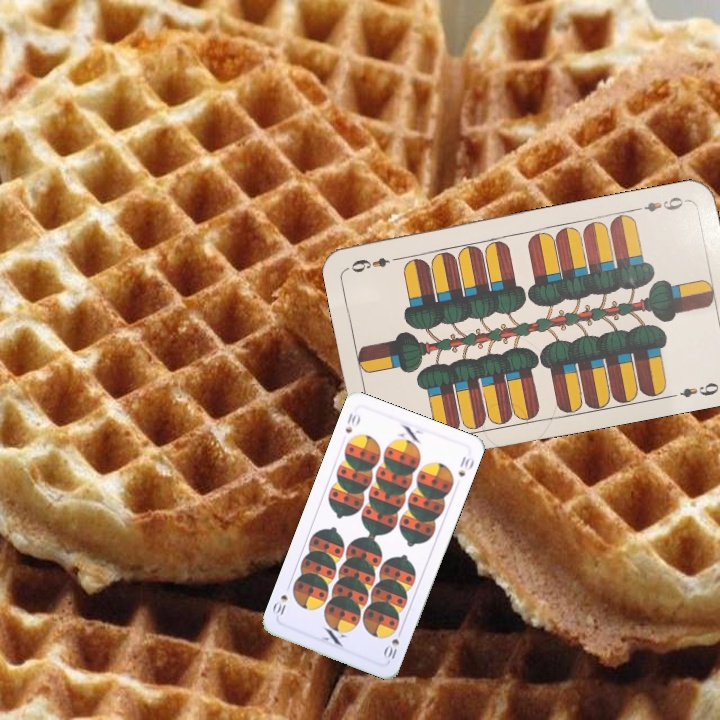E9: (630, 193, 689, 215)
S10: (380, 634, 402, 664), (341, 408, 363, 436)
